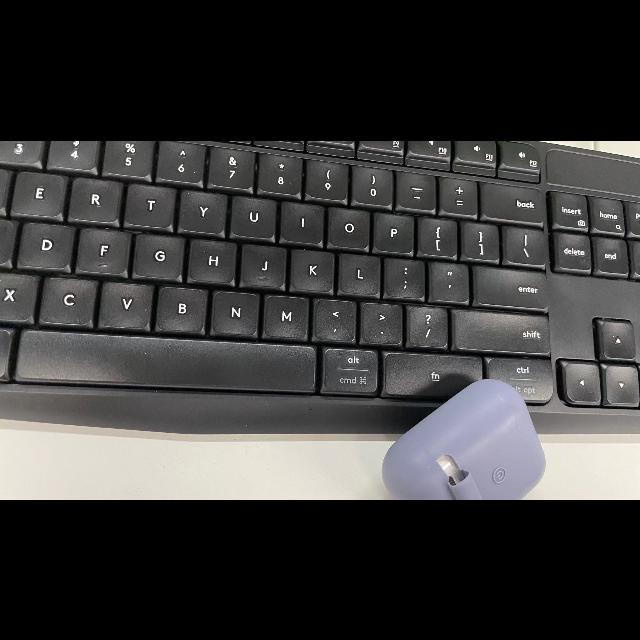airpods: (382, 378, 547, 498)
